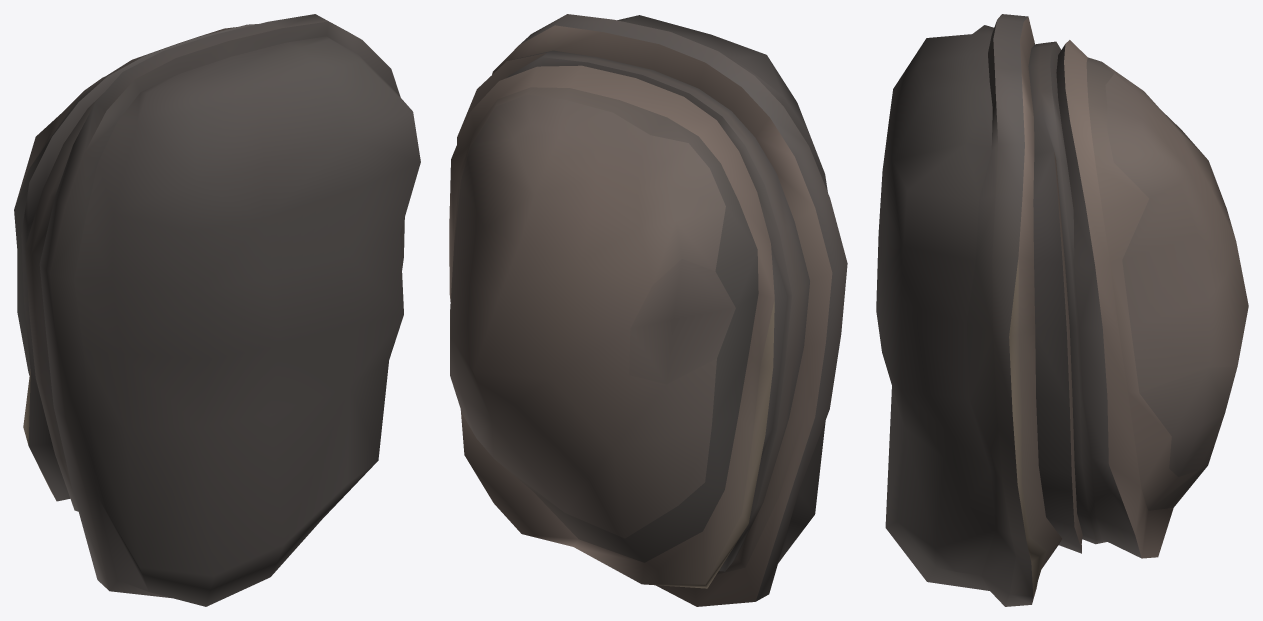
The model's file is LayeredRock.001.glb.
The picture shows the model from 3 angles, left to right: view 1: azimuth 30°, elevation 25°; view 2: azimuth 150°, elevation 25°; view 3: azimuth 270°, elevation 25°; orthographic projection. The views are drawn at different scales.
Parts seen in each view (by area): view 1: LayeredRock.001; view 2: LayeredRock.001; view 3: LayeredRock.001.
Part boxes in pixels (x1=…): LayeredRock.001: x1=14, y1=14, x2=420, y2=606; LayeredRock.001: x1=449, y1=14, x2=847, y2=606; LayeredRock.001: x1=876, y1=14, x2=1248, y2=606.
Size of the model in its own units: 782 by 1136 by 667.
